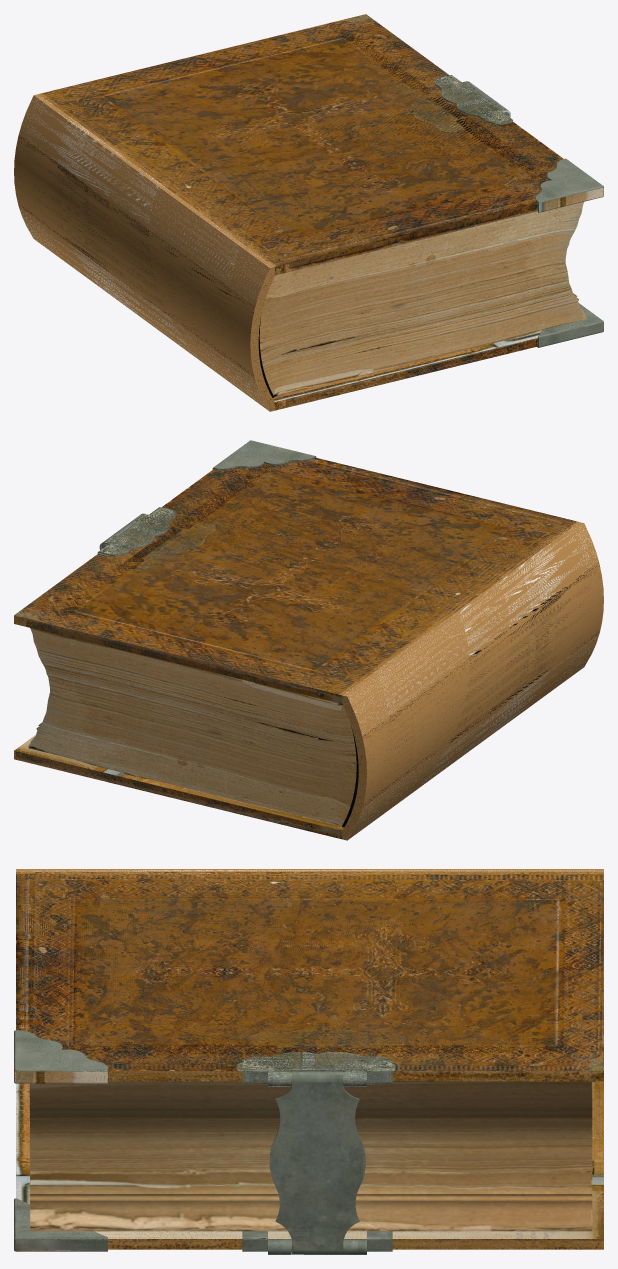
The model's file is book.dae.
3 views of the same model, one above another, from view 1: azimuth 30°, elevation 25°; view 2: azimuth 150°, elevation 25°; view 3: azimuth 270°, elevation 25° (orthographic). The views are drawn at different scales.
Visible parts, largest first — view 1: SketchUp_063, SketchUp_015, SketchUp_020, SketchUp_019, SketchUp_083, SketchUp_035, SketchUp_062, SketchUp_022, SketchUp_008, SketchUp_044; view 2: SketchUp_063, SketchUp_012, SketchUp_020, SketchUp_019, SketchUp_083, SketchUp_035, SketchUp_062, SketchUp_022; view 3: SketchUp_063, SketchUp_016, SketchUp_001, SketchUp_083, SketchUp_019, SketchUp_035, SketchUp_062, SketchUp_022, SketchUp_028, SketchUp_008, SketchUp_043, SketchUp_004 (+1 smaller).
Part boxes in pixels (left/top/right/bottom): SketchUp_063: left=39, top=14, right=563, bottom=275; SketchUp_015: left=259, top=202, right=586, bottom=396; SketchUp_020: left=14, top=95, right=269, bottom=411; SketchUp_019: left=250, top=267, right=537, bottom=411; SketchUp_083: left=273, top=330, right=541, bottom=401; SketchUp_035: left=434, top=75, right=510, bottom=122; SketchUp_062: left=535, top=158, right=603, bottom=203; SketchUp_022: left=34, top=94, right=274, bottom=267; SketchUp_008: left=539, top=323, right=603, bottom=347; SketchUp_044: left=539, top=188, right=603, bottom=211; SketchUp_063: left=14, top=457, right=578, bottom=703; SketchUp_012: left=28, top=628, right=356, bottom=825; SketchUp_020: left=347, top=523, right=603, bottom=840; SketchUp_019: left=14, top=695, right=366, bottom=840; SketchUp_083: left=14, top=735, right=343, bottom=830; SketchUp_035: left=99, top=507, right=175, bottom=555; SketchUp_062: left=213, top=440, right=315, bottom=468; SketchUp_022: left=342, top=522, right=583, bottom=696; SketchUp_063: left=16, top=872, right=603, bottom=1081; SketchUp_016: left=30, top=1081, right=592, bottom=1231; SketchUp_001: left=242, top=1071, right=392, bottom=1254; SketchUp_083: left=16, top=1081, right=603, bottom=1238; SketchUp_019: left=108, top=1239, right=603, bottom=1249; SketchUp_035: left=242, top=1051, right=392, bottom=1071; SketchUp_062: left=14, top=1030, right=107, bottom=1071; SketchUp_022: left=16, top=869, right=603, bottom=871; SketchUp_028: left=242, top=1069, right=392, bottom=1086; SketchUp_008: left=16, top=1239, right=107, bottom=1251; SketchUp_043: left=16, top=1071, right=107, bottom=1082; SketchUp_004: left=16, top=1198, right=107, bottom=1237.
Size of the model in its own units: 0.2211 by 0.2508 by 0.0858.
23 materials, 19 textured.
